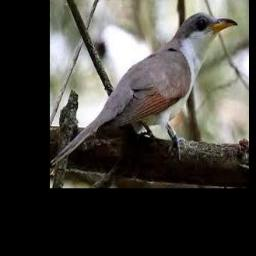Cuckoo: (51, 12, 237, 166)
